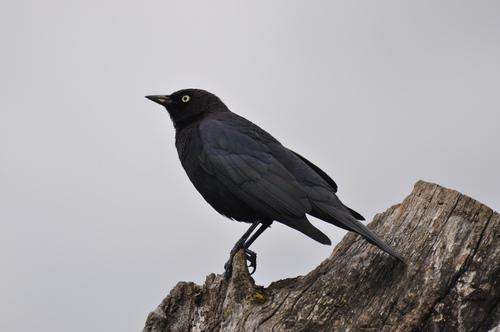009.Brewer_Blackbird: (144, 85, 411, 281)
